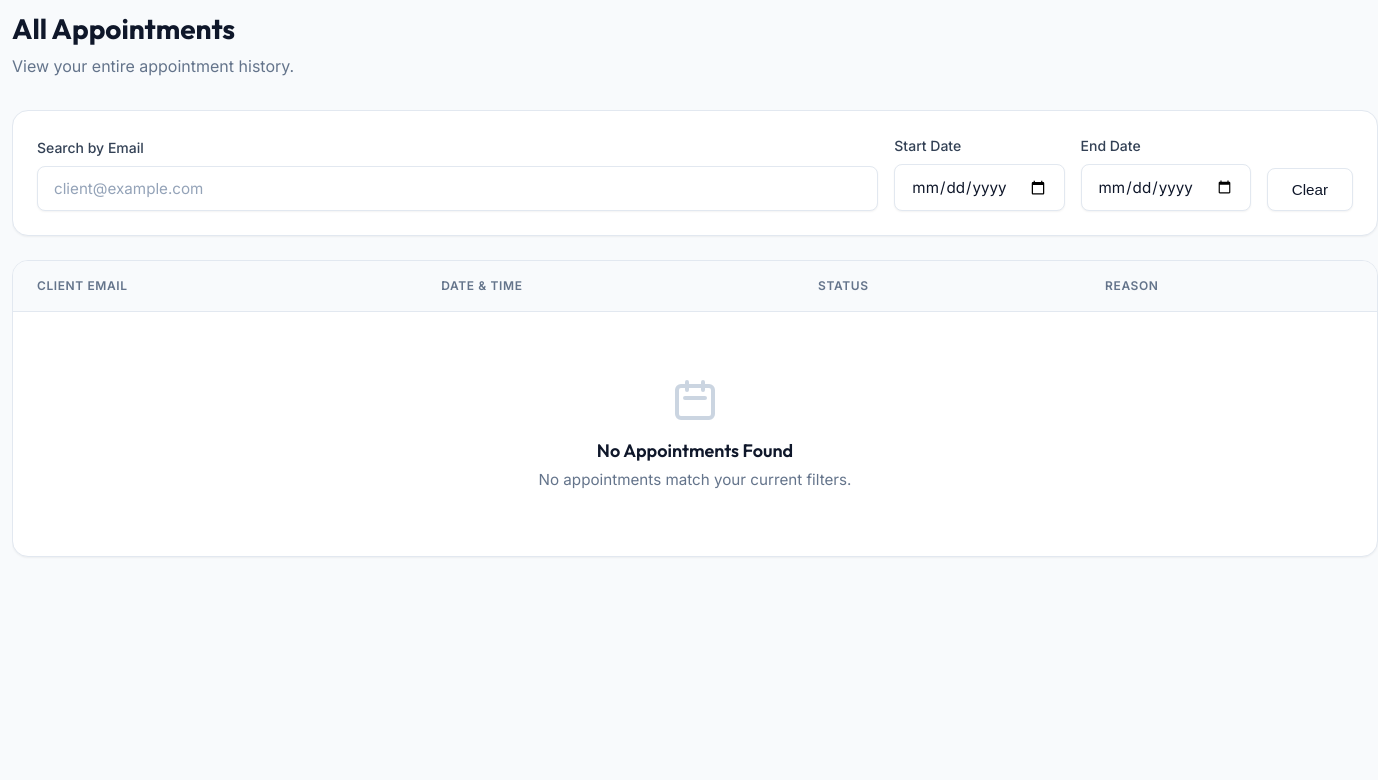
Scenario: AppointmentsTable › validates date ranges
The image size is (1378, 780).
expect the text "Loading appointments..." is not shown: met
Type "2026-07-30" into the date field labelled "Start Date".
click(979, 187); type("2026-07-30")  # box left=894, top=164, right=1064, bottom=211
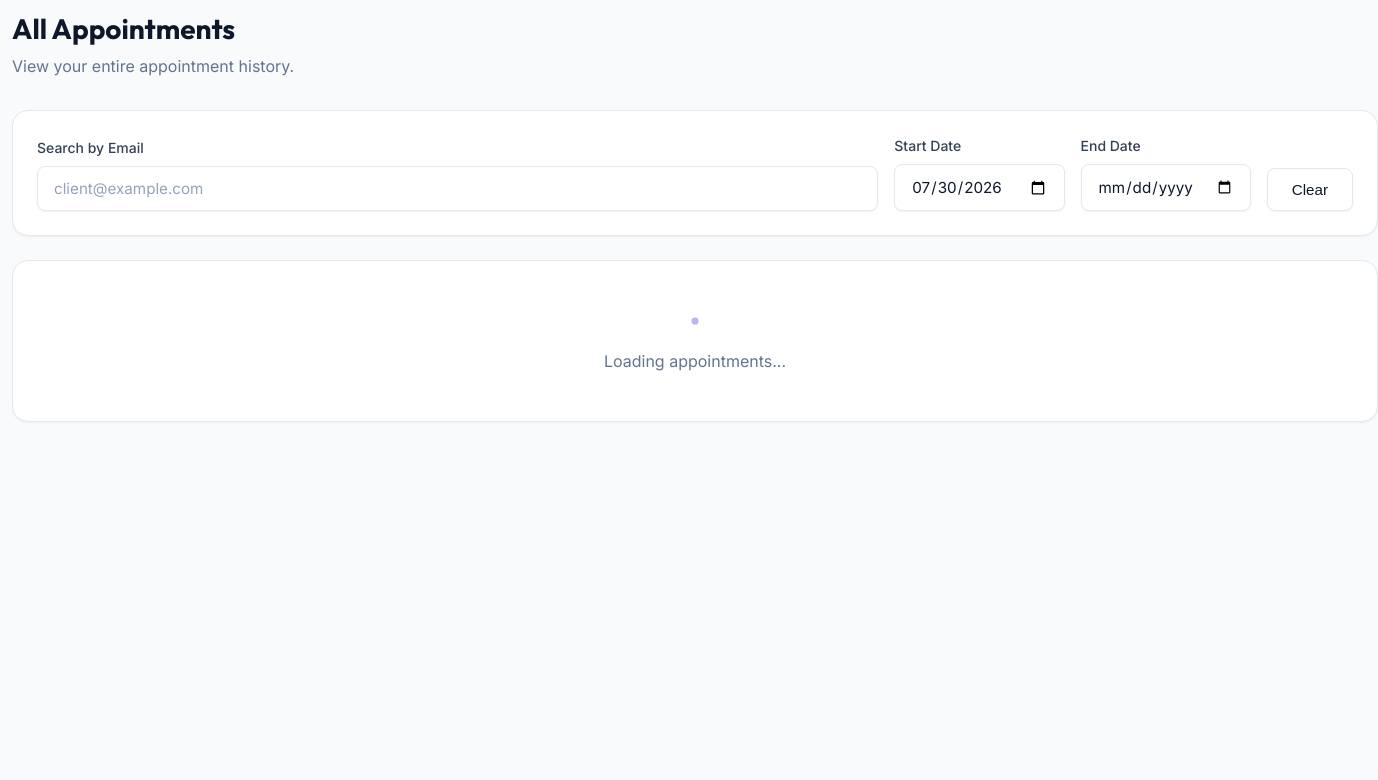
Type "2026-07-28" into the date field labelled "End Date".
click(1166, 187); type("2026-07-28")  # box left=1080, top=164, right=1251, bottom=211
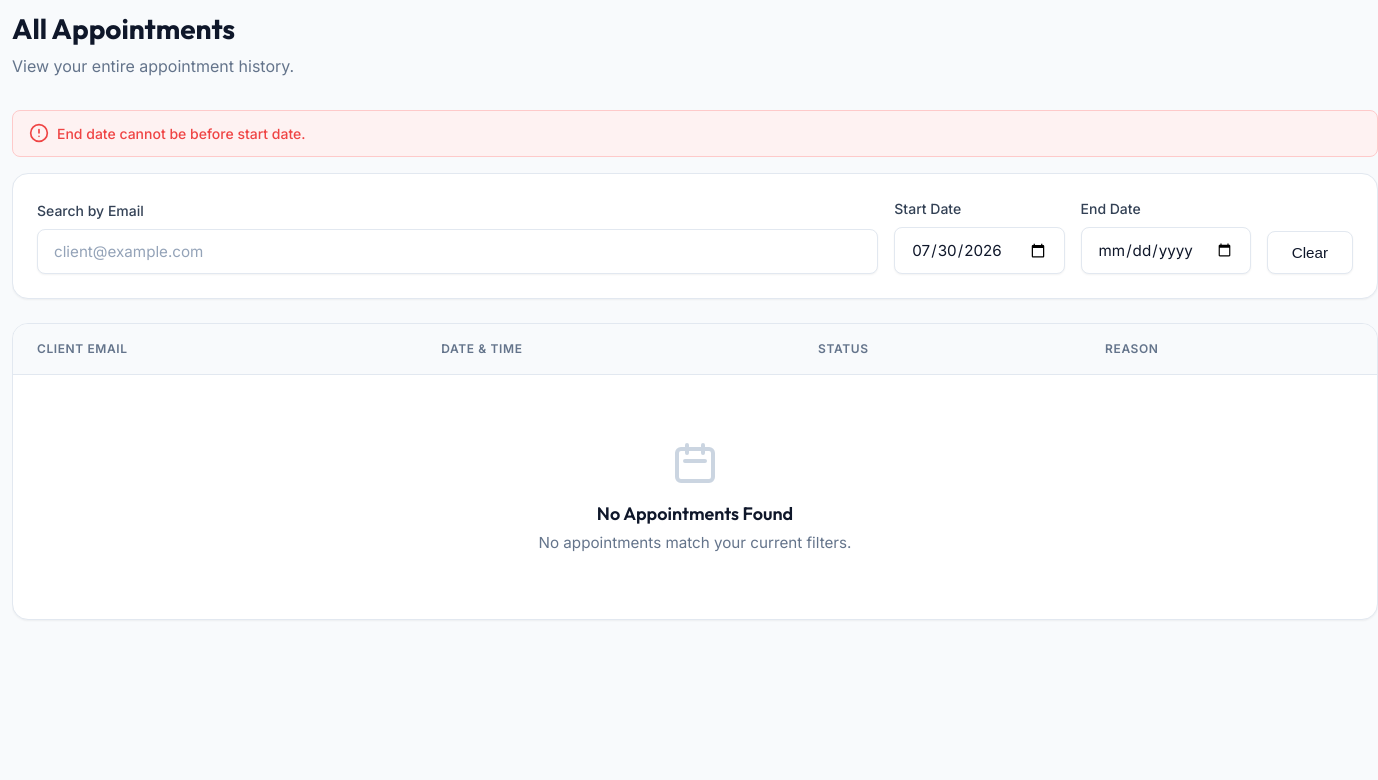
expect the text "End date cannot be before start date." is shown: met, box left=12, top=110, right=1377, bottom=157
